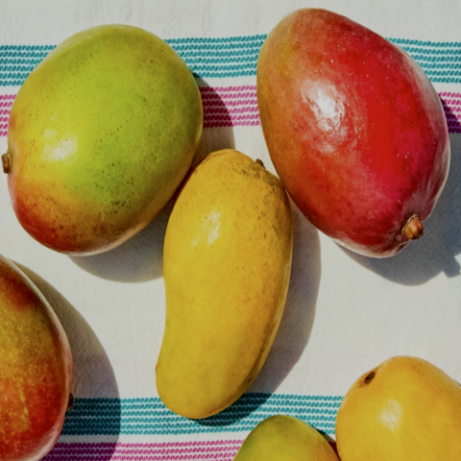mango: (241, 0, 461, 302), (0, 6, 212, 302), (145, 125, 306, 438)
